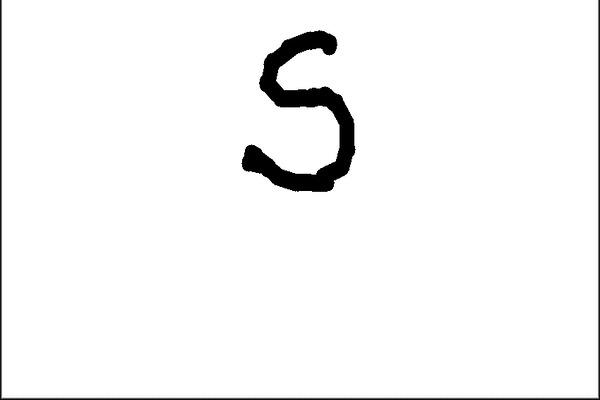S: (234, 25, 366, 209)
